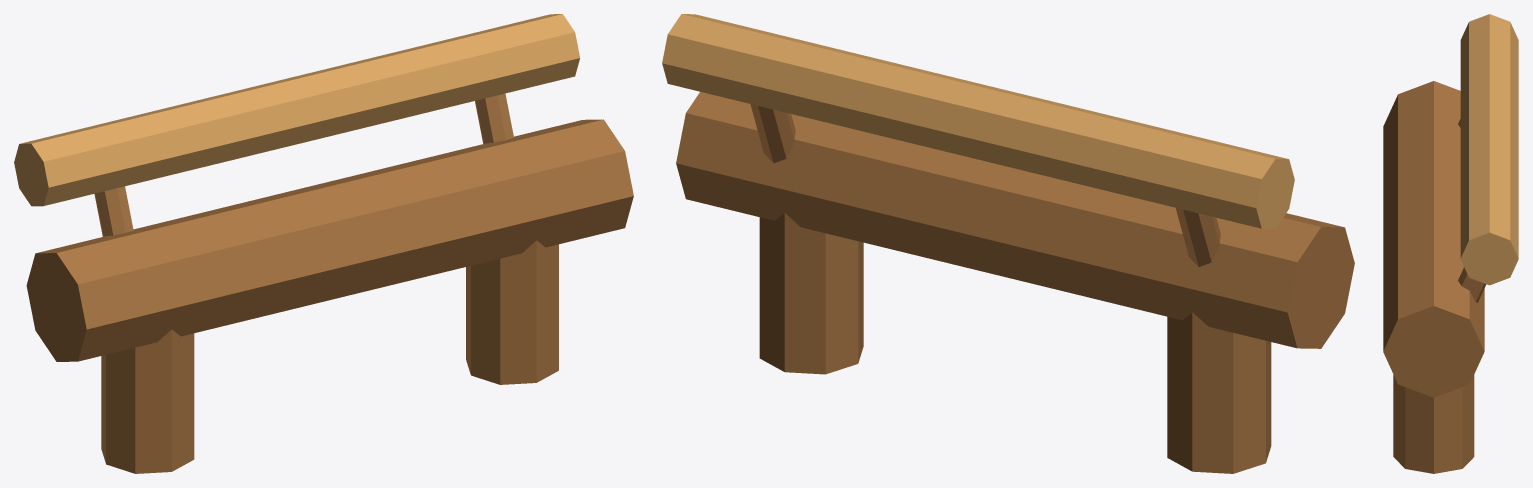
The model's file is FTF_Prop_WoodBench_RusticLog_2m.glb.
The picture shows the model from 3 angles, left to right: view 1: azimuth 30°, elevation 25°; view 2: azimuth 150°, elevation 25°; view 3: azimuth 270°, elevation 25°; orthographic projection. The views are drawn at different scales.
Visible parts, largest first — view 1: FTF_Prop_WoodBench_RusticLog_2m_Mesh; view 2: FTF_Prop_WoodBench_RusticLog_2m_Mesh; view 3: FTF_Prop_WoodBench_RusticLog_2m_Mesh.
Boxes of the visible parts, x1,y1,x2,y2 form: FTF_Prop_WoodBench_RusticLog_2m_Mesh: (14,14,633,473); FTF_Prop_WoodBench_RusticLog_2m_Mesh: (662,14,1354,473); FTF_Prop_WoodBench_RusticLog_2m_Mesh: (1383,14,1518,473).
Size of the model in its own units: 2.1 by 1.13 by 0.535.
